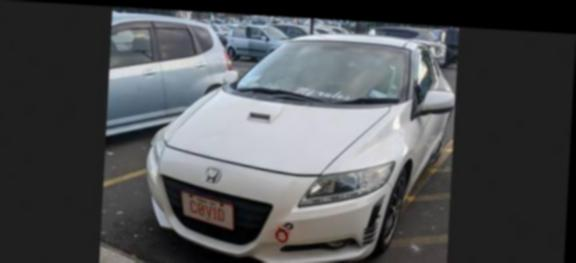License_Plate: (177, 185, 243, 234)
